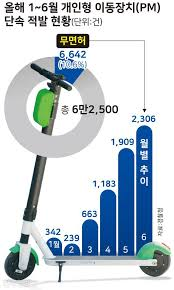kick_wheel: (4, 245, 35, 281)
